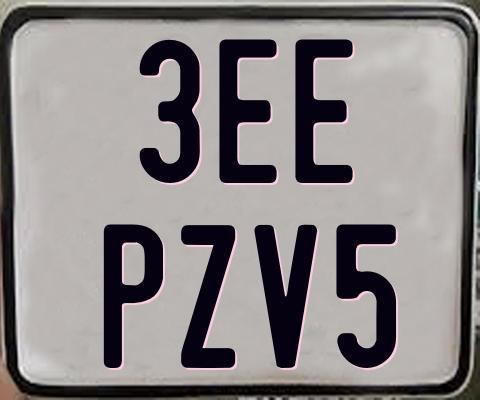3: (138, 37, 205, 186)
5: (336, 222, 396, 371)
E: (217, 36, 279, 182), (292, 36, 351, 183)
P: (103, 222, 168, 369)
V: (253, 222, 318, 365)
Z: (180, 223, 239, 371)
